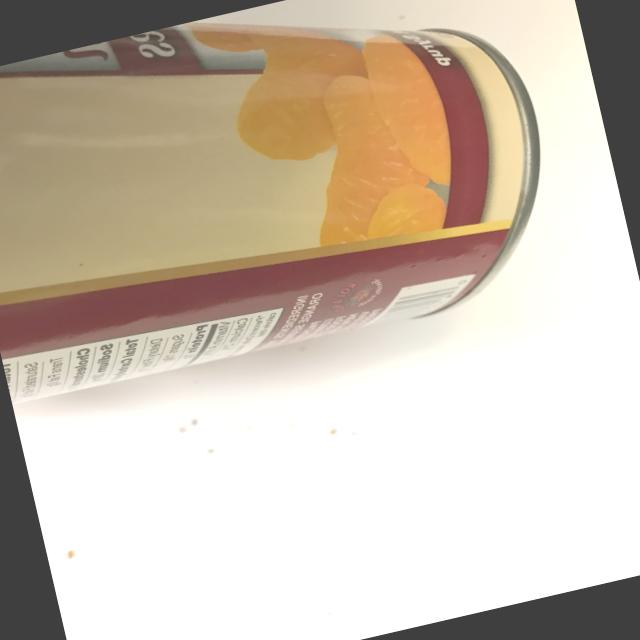Metal: (0, 0, 587, 427)
